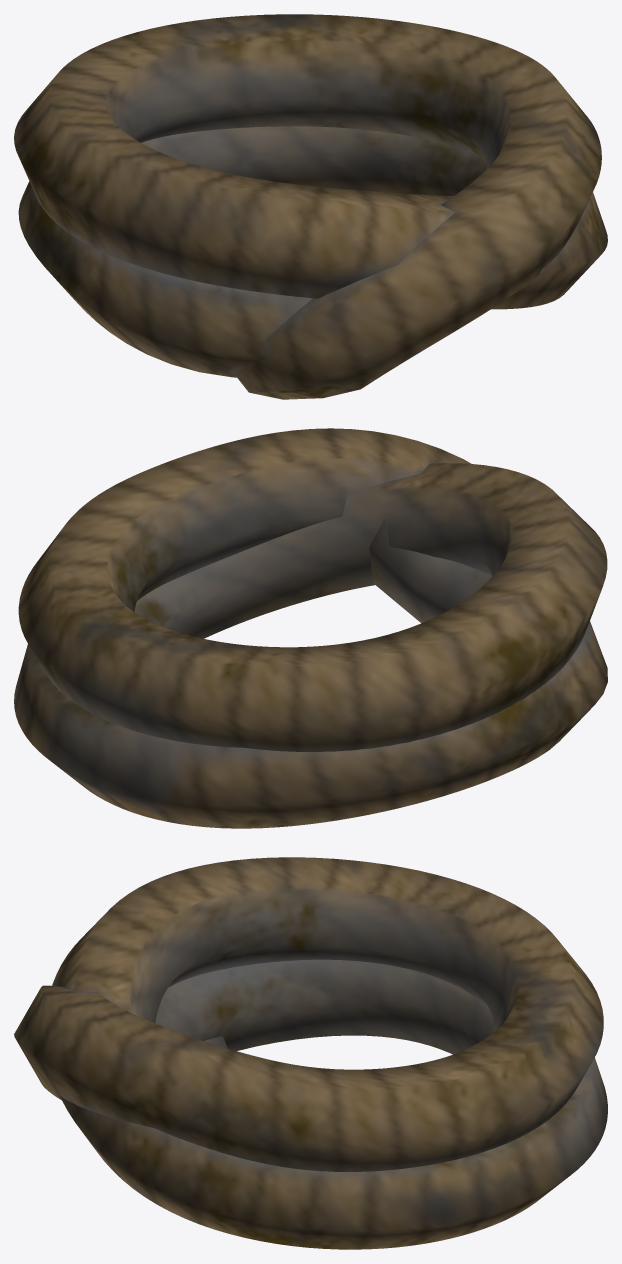
File: Rope.fbx
3 views of the same model, one above another, from view 1: azimuth 30°, elevation 25°; view 2: azimuth 150°, elevation 25°; view 3: azimuth 270°, elevation 25° (orthographic). The views are drawn at different scales.
Parts seen in each view (by area): view 1: Corda.001; view 2: Corda.001; view 3: Corda.001.
Part boxes in pixels (<box>): Corda.001: <box>14,14,607,399</box>; Corda.001: <box>14,428,607,828</box>; Corda.001: <box>14,857,607,1249</box>.
Bounding box in the file's own units: 20.26 × 8.39 × 21.63.
